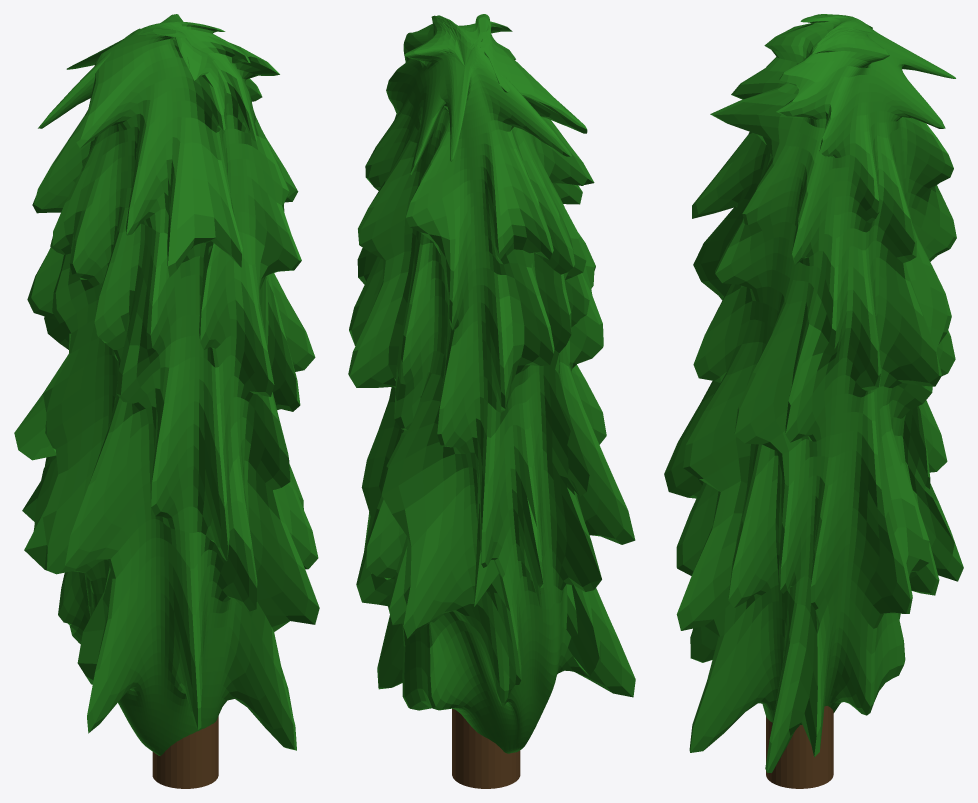
The model's file is елка.fbx.
3 renders of one model, left to right at view 1: azimuth 30°, elevation 25°; view 2: azimuth 150°, elevation 25°; view 3: azimuth 270°, elevation 25°, orthographic. The views are drawn at different scales.
Visible parts, largest first — view 1: Sphere, Cylinder; view 2: Sphere, Cylinder; view 3: Sphere, Cylinder.
Boxes of the visible parts, x1,y1,x2,y2 form: Sphere: (14,14,319,755); Cylinder: (152,716,218,788); Sphere: (348,14,635,753); Cylinder: (452,708,520,788); Sphere: (664,14,963,772); Cylinder: (766,706,833,788).
Bounding box in the file's own units: 135 × 366 × 132.
